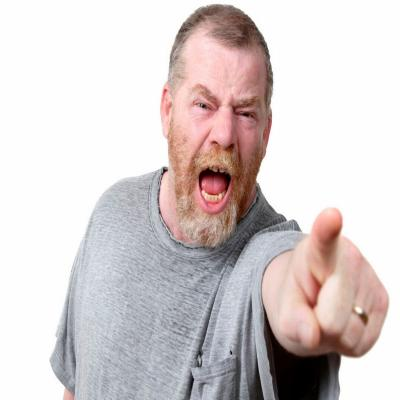angry: (178, 31, 267, 234)
